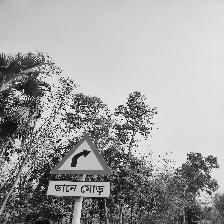Right-turn: (47, 134, 113, 199)
